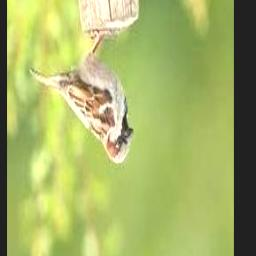Sparrow: (30, 31, 134, 164)
